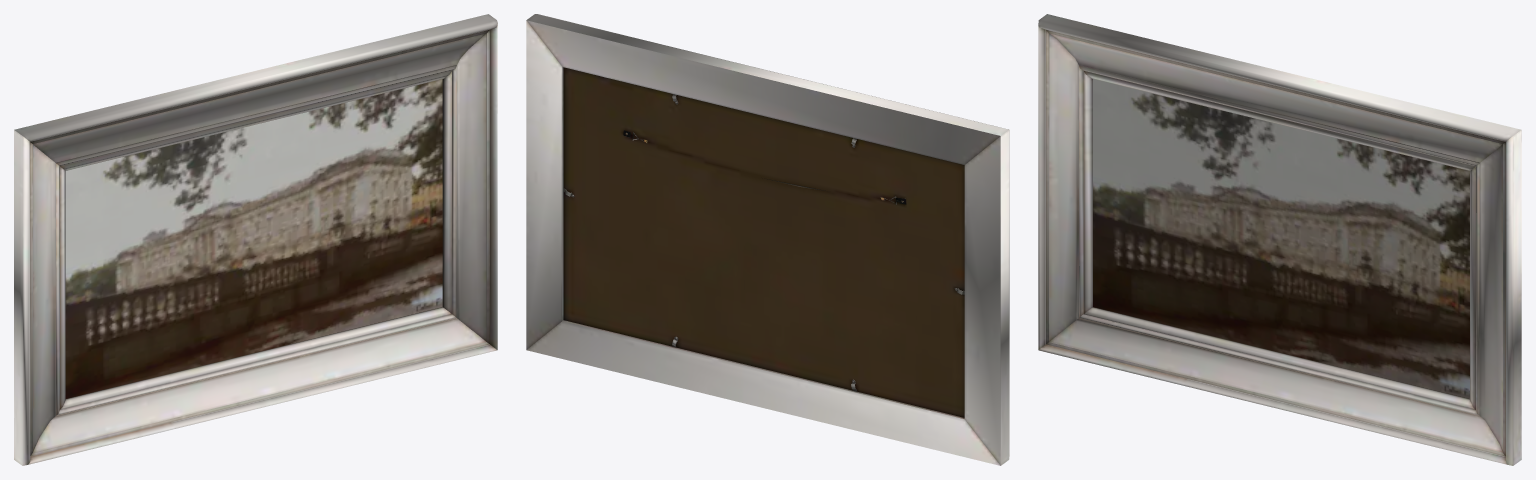
The model's file is frame-photo-white.glb.
3 views of the same model, side by side, from view 1: azimuth 30°, elevation 25°; view 2: azimuth 150°, elevation 25°; view 3: azimuth 330°, elevation 25° (orthographic).
Visible parts, largest first — view 1: hanging_picture_frame_02; view 2: hanging_picture_frame_02; view 3: hanging_picture_frame_02.
Part boxes in pixels (left/top/right/bottom): hanging_picture_frame_02: left=14, top=14, right=497, bottom=465; hanging_picture_frame_02: left=526, top=14, right=1009, bottom=465; hanging_picture_frame_02: left=1038, top=14, right=1521, bottom=465.
Size of the model in its own units: 0.7506 by 0.4988 by 0.0323.
Materials: 2 (2 with a texture image).
